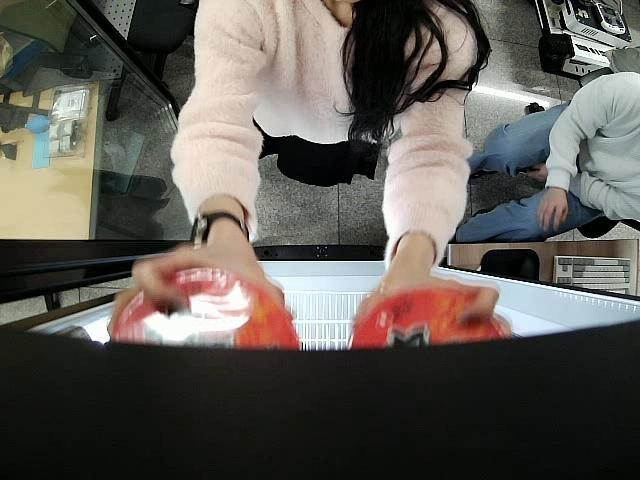01_ShinRamen_L: (107, 265, 302, 354), (354, 286, 513, 356)
